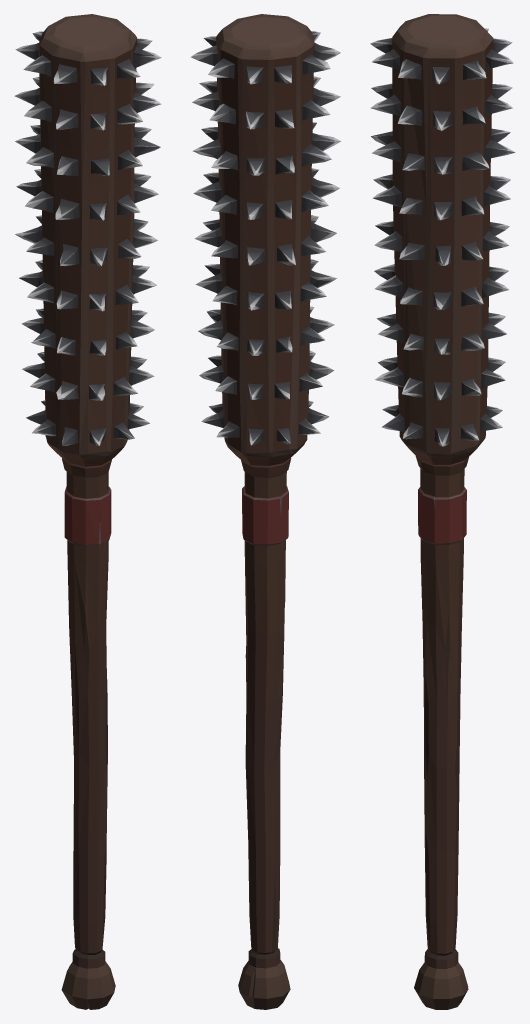
The model's file is bluntHeavyKanabo.glb.
The picture shows the model from 3 angles, left to right: view 1: azimuth 30°, elevation 25°; view 2: azimuth 150°, elevation 25°; view 3: azimuth 270°, elevation 25°; orthographic projection.
Parts seen in each view (by area): view 1: bluntHeavyKanabo; view 2: bluntHeavyKanabo; view 3: bluntHeavyKanabo.
Part boxes in pixels (<box>): bluntHeavyKanabo: <box>14,14,161,1009</box>; bluntHeavyKanabo: <box>190,14,341,1009</box>; bluntHeavyKanabo: <box>370,14,515,1009</box>.
Bounding box in the file's own units: 0.1664 × 1.18 × 0.1594.
